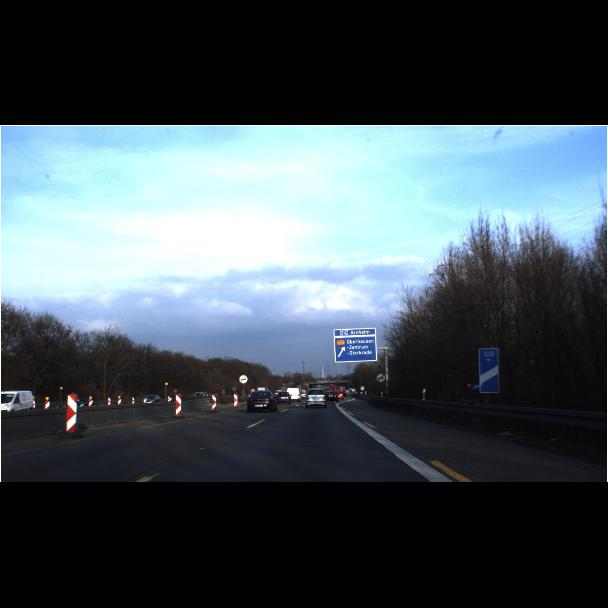restriction ends (overtaking): (238, 374, 385, 384)
